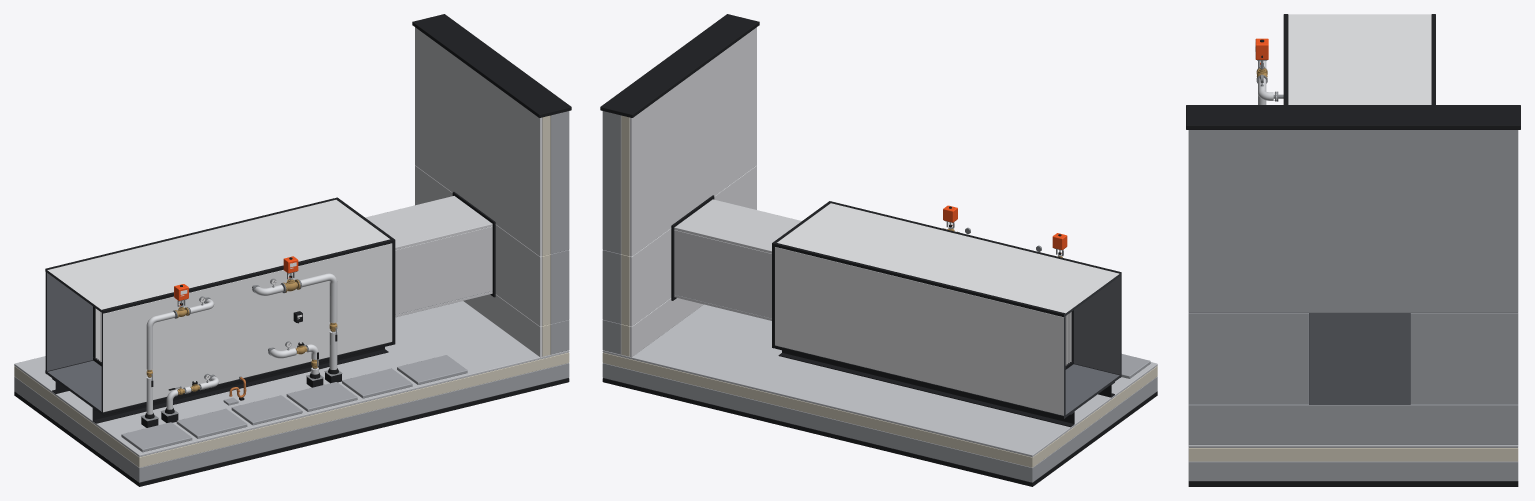
3 renders of one model, left to right at view 1: azimuth 30°, elevation 25°; view 2: azimuth 150°, elevation 25°; view 3: azimuth 270°, elevation 25°, orthographic. The views are drawn at different scales.
Visible parts, largest first — view 1: site_wall, site_deck, housing_front, housing_roof, site_pavers, sa_duct_front, housing_back, housing_edges, sa_duct_top, base_rail_01, housing_floor, chw_return_pipe (+1 smaller); view 2: site_deck, site_wall, housing_back, housing_roof, sa_duct_back, housing_edges, housing_front, sa_duct_top, base_rail_02, housing_floor; view 3: site_wall, site_deck, housing_roof, housing_edges.
Boxes of the visible parts, x1,y1,x2,y2 form: site_wall: [412, 14, 571, 357]; site_deck: [14, 301, 569, 486]; housing_front: [101, 243, 392, 412]; housing_roof: [47, 199, 389, 312]; site_pavers: [121, 355, 467, 452]; sa_duct_front: [395, 226, 492, 314]; housing_back: [45, 272, 92, 371]; housing_edges: [45, 197, 395, 415]; sa_duct_top: [365, 196, 492, 249]; base_rail_01: [92, 347, 388, 423]; housing_floor: [47, 360, 101, 413]; chw_return_pipe: [254, 273, 337, 369]; site_deck: [602, 304, 1157, 486]; site_wall: [600, 14, 759, 357]; housing_back: [775, 247, 1065, 415]; housing_roof: [777, 203, 1119, 315]; sa_duct_back: [674, 230, 771, 318]; housing_edges: [772, 201, 1121, 418]; housing_front: [1074, 275, 1121, 374]; sa_duct_top: [674, 199, 801, 253]; base_rail_02: [778, 350, 1074, 427]; housing_floor: [1065, 364, 1119, 417]; site_wall: [1186, 105, 1520, 444]; site_deck: [1188, 445, 1518, 486]; housing_roof: [1288, 14, 1431, 104]; housing_edges: [1283, 14, 1435, 104].
Size of the model in its own units: 5.17 by 3.15 by 2.64.
